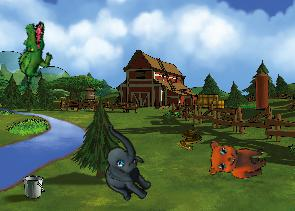bear: (205, 134, 268, 182)
crocodile: (8, 19, 59, 86)
elephant: (80, 123, 169, 208)
